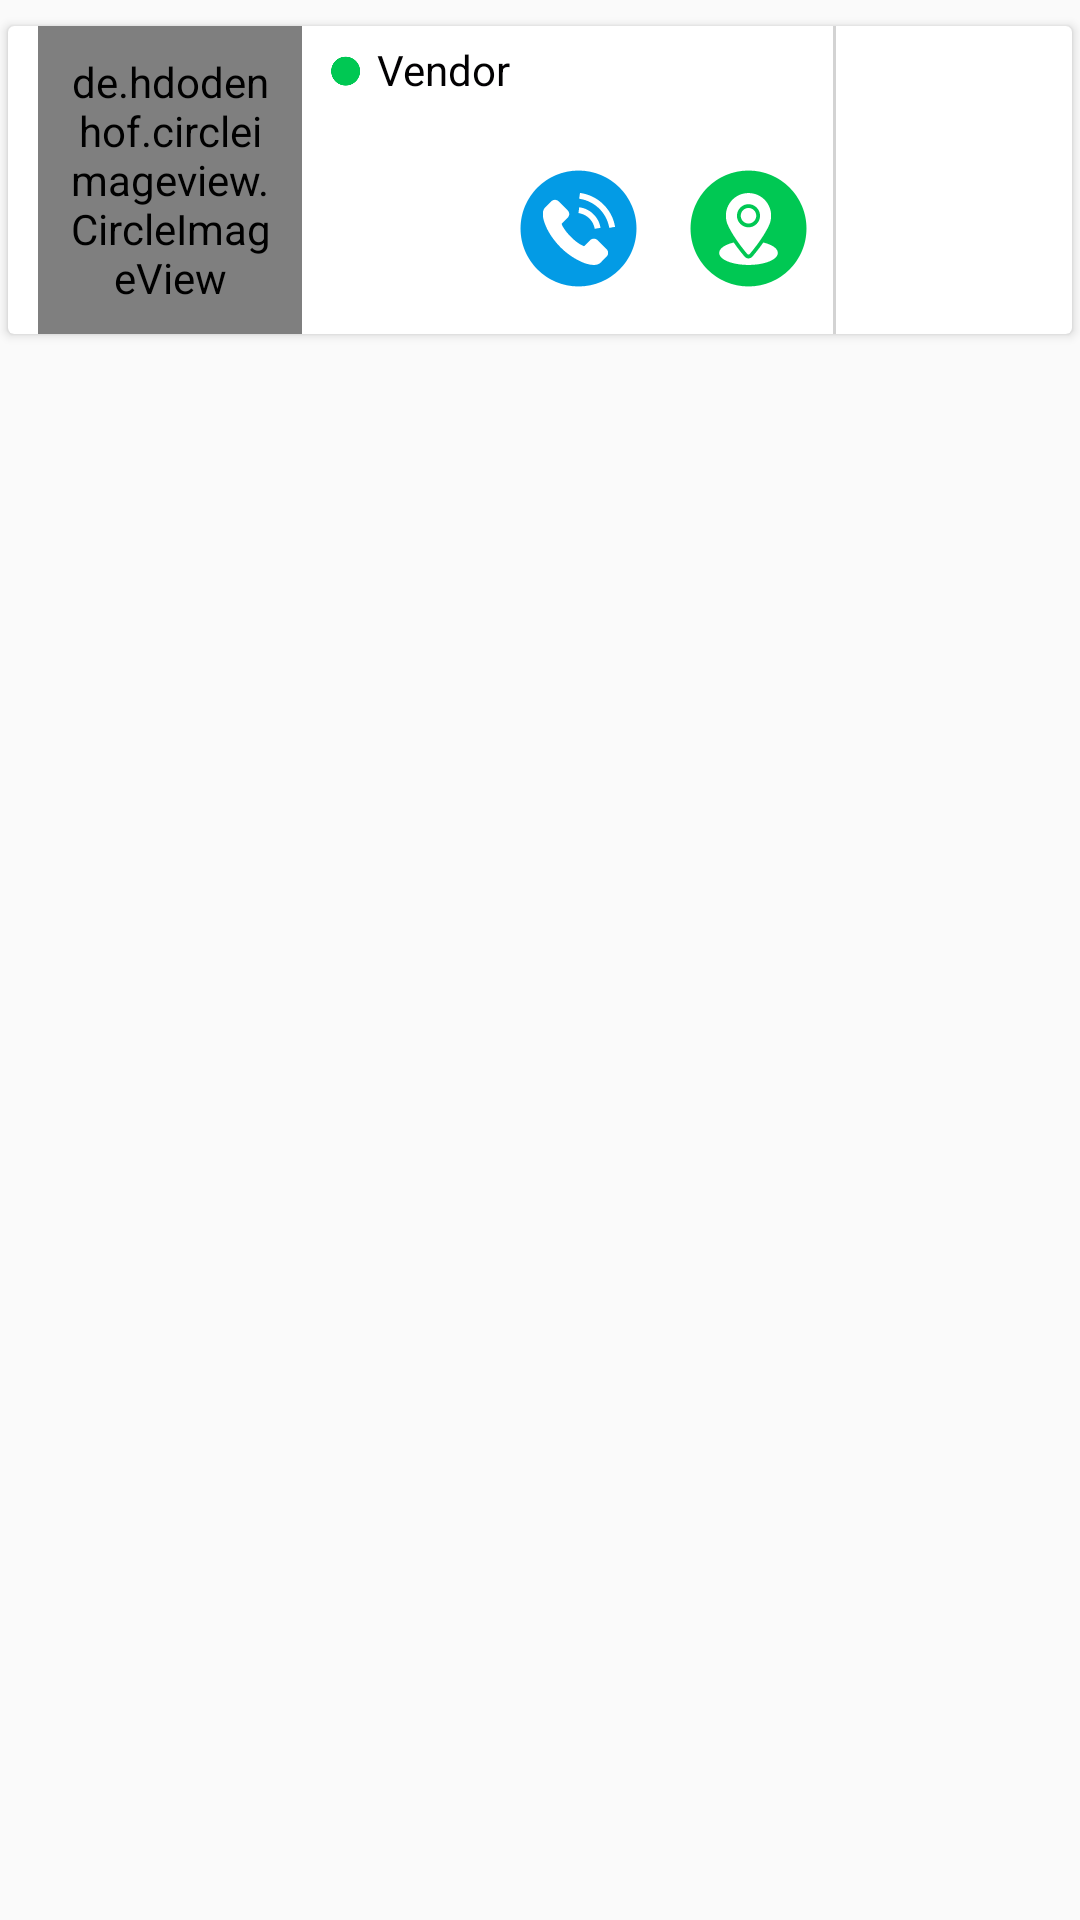

Icon bounding boxes for this 1080px×1920px phone screenshot, format (x1, y1, x2, y2):
call: (520, 170, 637, 287)
locate: (690, 170, 807, 287)
